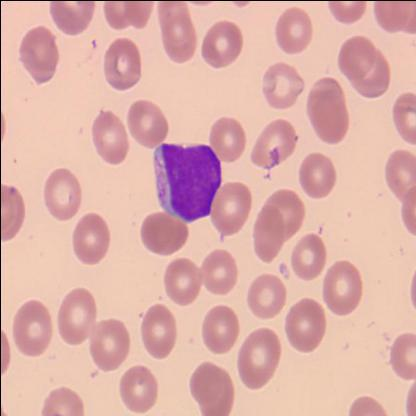Promyelocyte: (153, 138, 223, 222)
